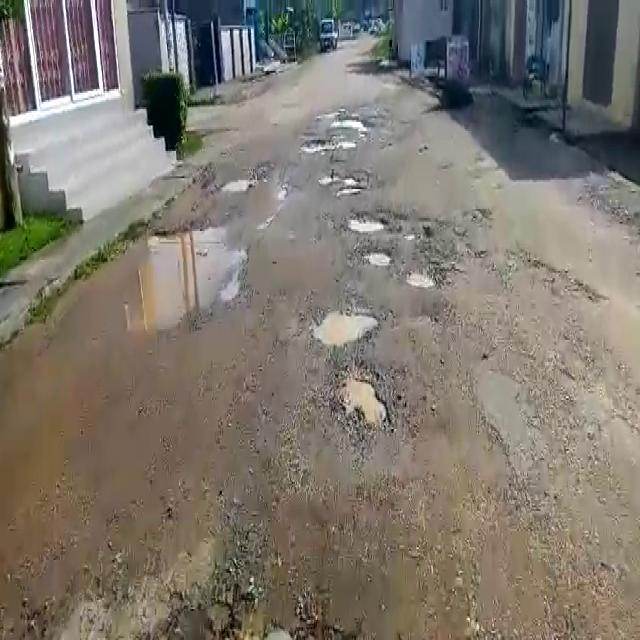Pothole: (71, 232, 253, 340), (334, 363, 394, 440), (307, 302, 377, 352), (319, 173, 366, 198), (343, 210, 388, 232), (301, 136, 356, 152), (406, 269, 438, 292), (362, 249, 396, 269), (219, 178, 255, 190)
